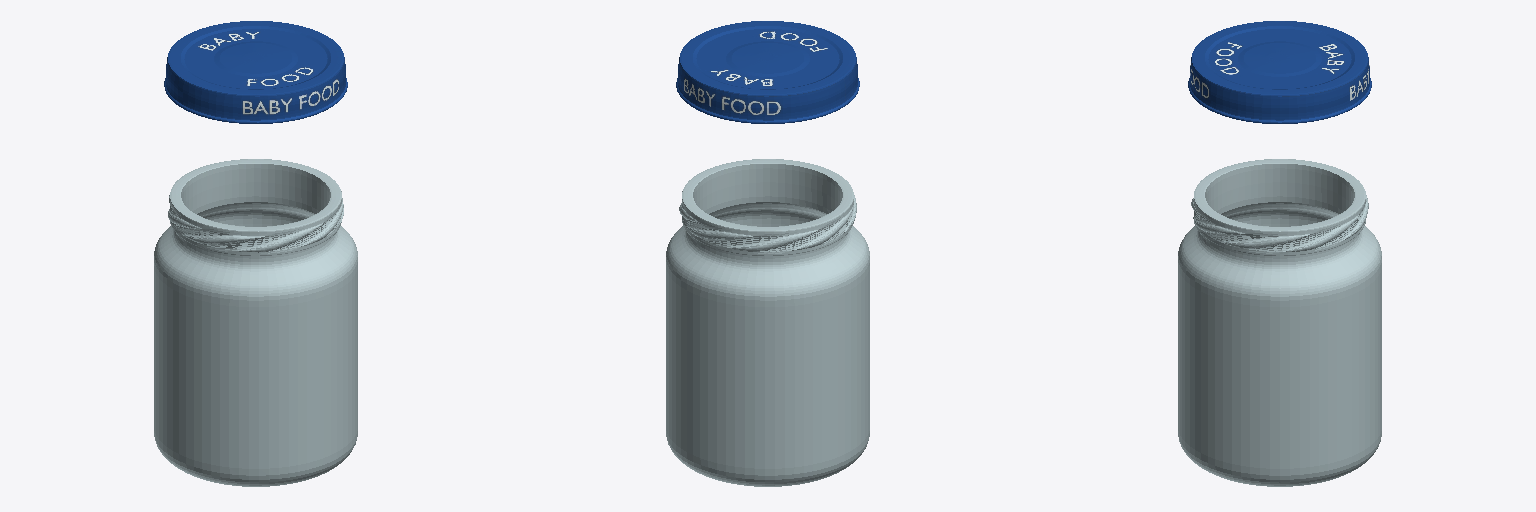
The picture shows the model from 3 angles: view 1: azimuth 30°, elevation 25°; view 2: azimuth 150°, elevation 25°; view 3: azimuth 270°, elevation 25°; orthographic projection.
Parts seen in each view (by area): view 1: Mesh.001; view 2: Mesh.001; view 3: Mesh.001.
Boxes of the visible parts, x1=… form: Mesh.001: x1=154, y1=21, x2=357, y2=486; Mesh.001: x1=666, y1=21, x2=869, y2=486; Mesh.001: x1=1178, y1=21, x2=1381, y2=486.
Size of the model in its own units: 0.2351 by 0.5022 by 0.2351.
Materials: 1 (1 with a texture image).